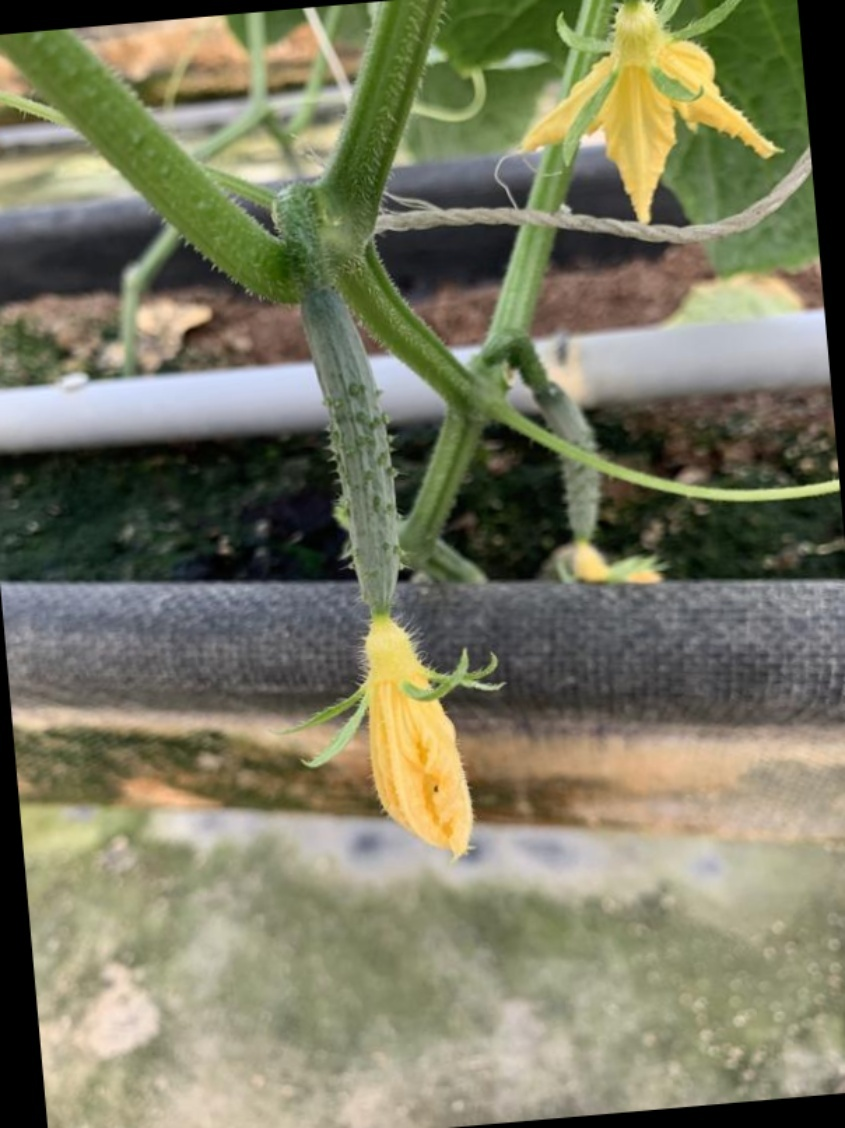bear: (272, 299, 499, 860)
